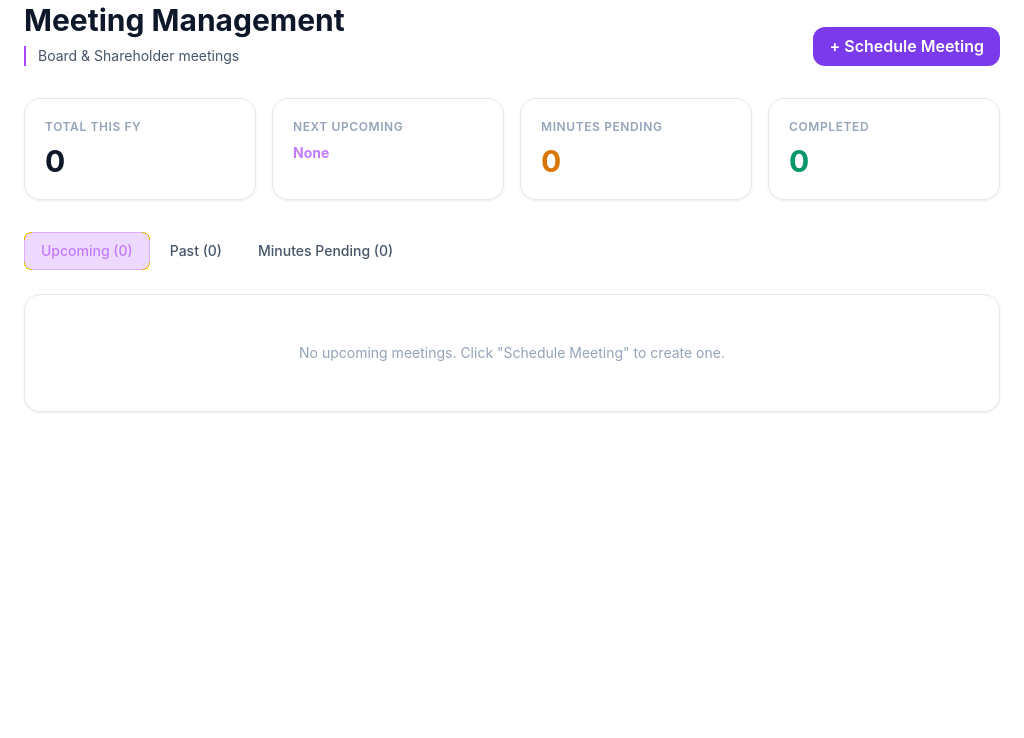
Scenario: MeetingsPage › renders schedule meeting form when button is clicked
The image size is (1024, 738).
Click the button "+ Schedule Meeting" at coordinates (907, 47), box [813,27,1000,66]
(page scrolled)
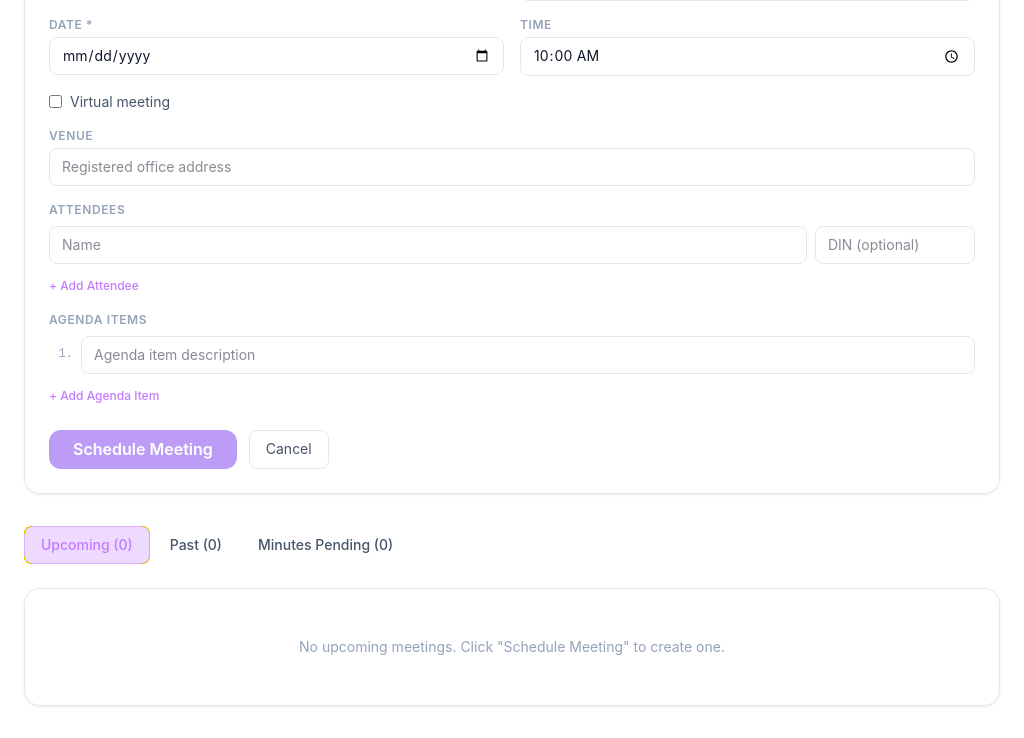
Now the button "Schedule Meeting" is shown, box [49,430,237,468]
Now the button "+ Add Attendee" is shown, box [49,278,139,294]
Now the button "+ Add Agenda Item" is shown, box [49,388,159,404]
